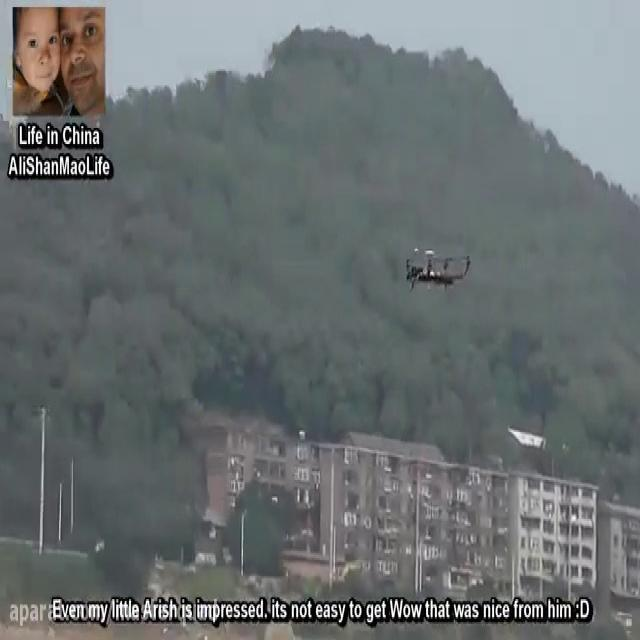drone: (402, 244, 474, 295)
